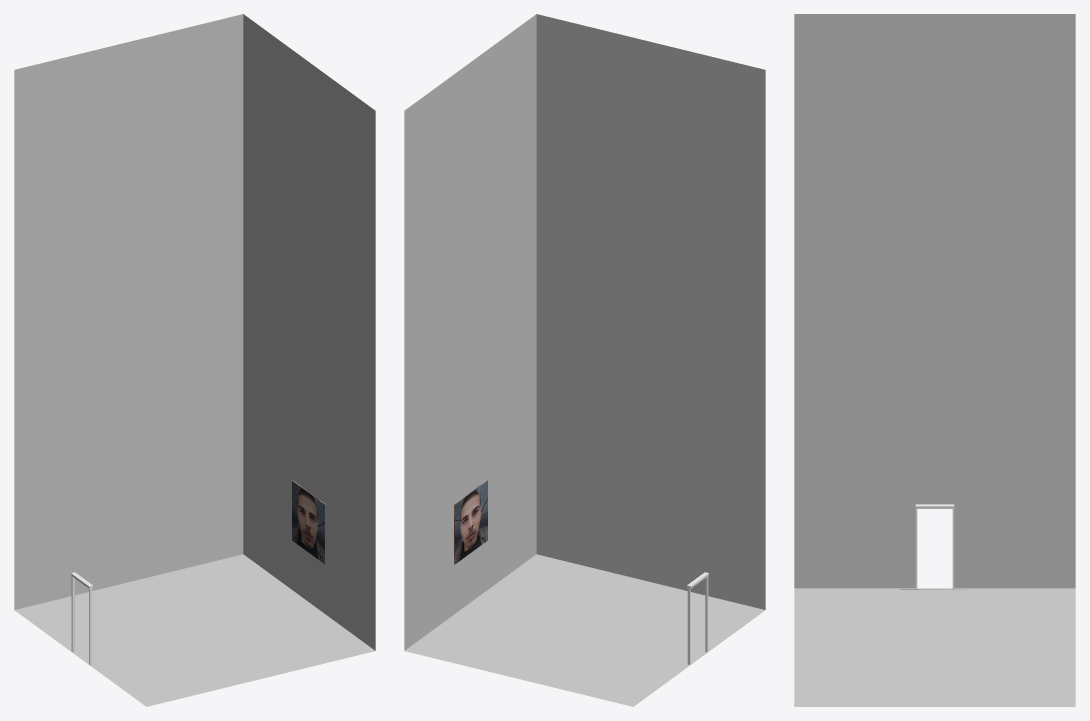
File: room.glb
3 renders of one model, left to right at view 1: azimuth 30°, elevation 25°; view 2: azimuth 150°, elevation 25°; view 3: azimuth 270°, elevation 25°, orthographic. The views are drawn at different scales.
Parts seen in each view (by area): view 1: room, frame, marco; view 2: room, frame, marco; view 3: room, marco.
Part boxes in pixels (x1,y1,x2,y2): room: [14, 14, 375, 706]; frame: [292, 480, 325, 564]; marco: [71, 572, 93, 664]; room: [404, 14, 765, 706]; frame: [454, 480, 487, 564]; marco: [687, 572, 708, 664]; room: [794, 14, 1075, 706]; marco: [915, 504, 954, 589].
Size of the model in its own units: 8.03 by 18.05 by 8.01.
Materials: 3 (1 with a texture image).
